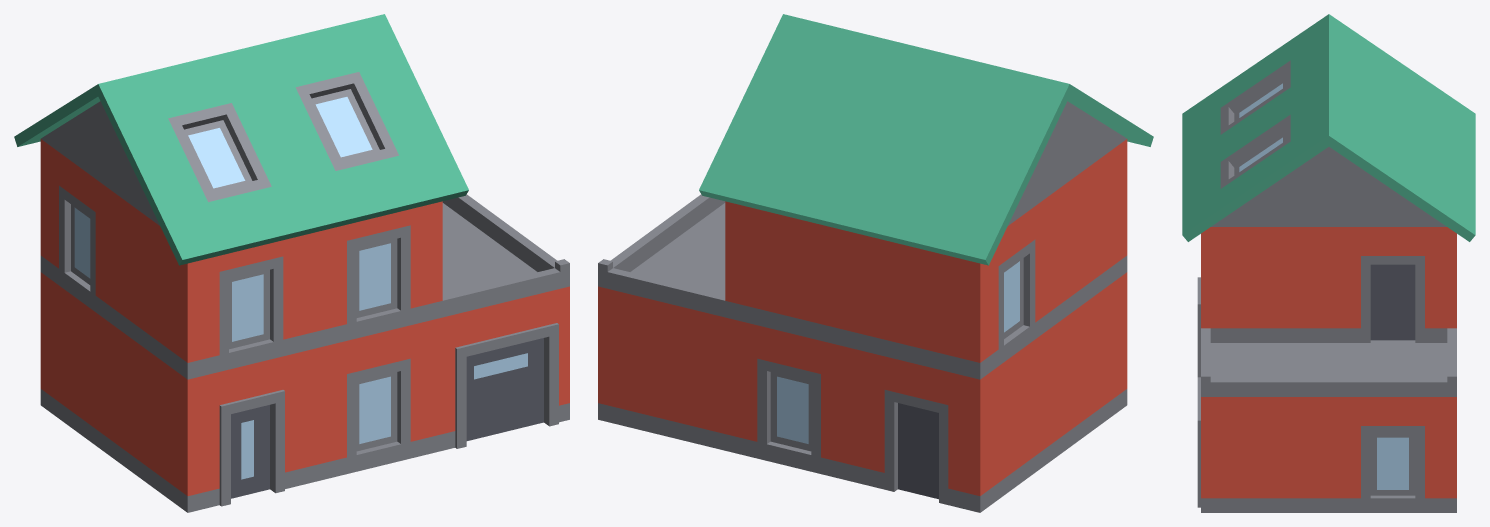
The model's file is House_Type_18.glb.
The picture shows the model from 3 angles, left to right: view 1: azimuth 30°, elevation 25°; view 2: azimuth 150°, elevation 25°; view 3: azimuth 270°, elevation 25°; orthographic projection. The views are drawn at different scales.
Parts seen in each view (by area): view 1: house_type18; view 2: house_type18; view 3: house_type18.
Part boxes in pixels (x1=…): house_type18: x1=14, y1=14, x2=569, y2=512; house_type18: x1=598, y1=14, x2=1153, y2=512; house_type18: x1=1182, y1=14, x2=1475, y2=512.
Size of the model in its own units: 1.25 by 1.14 by 0.916.
